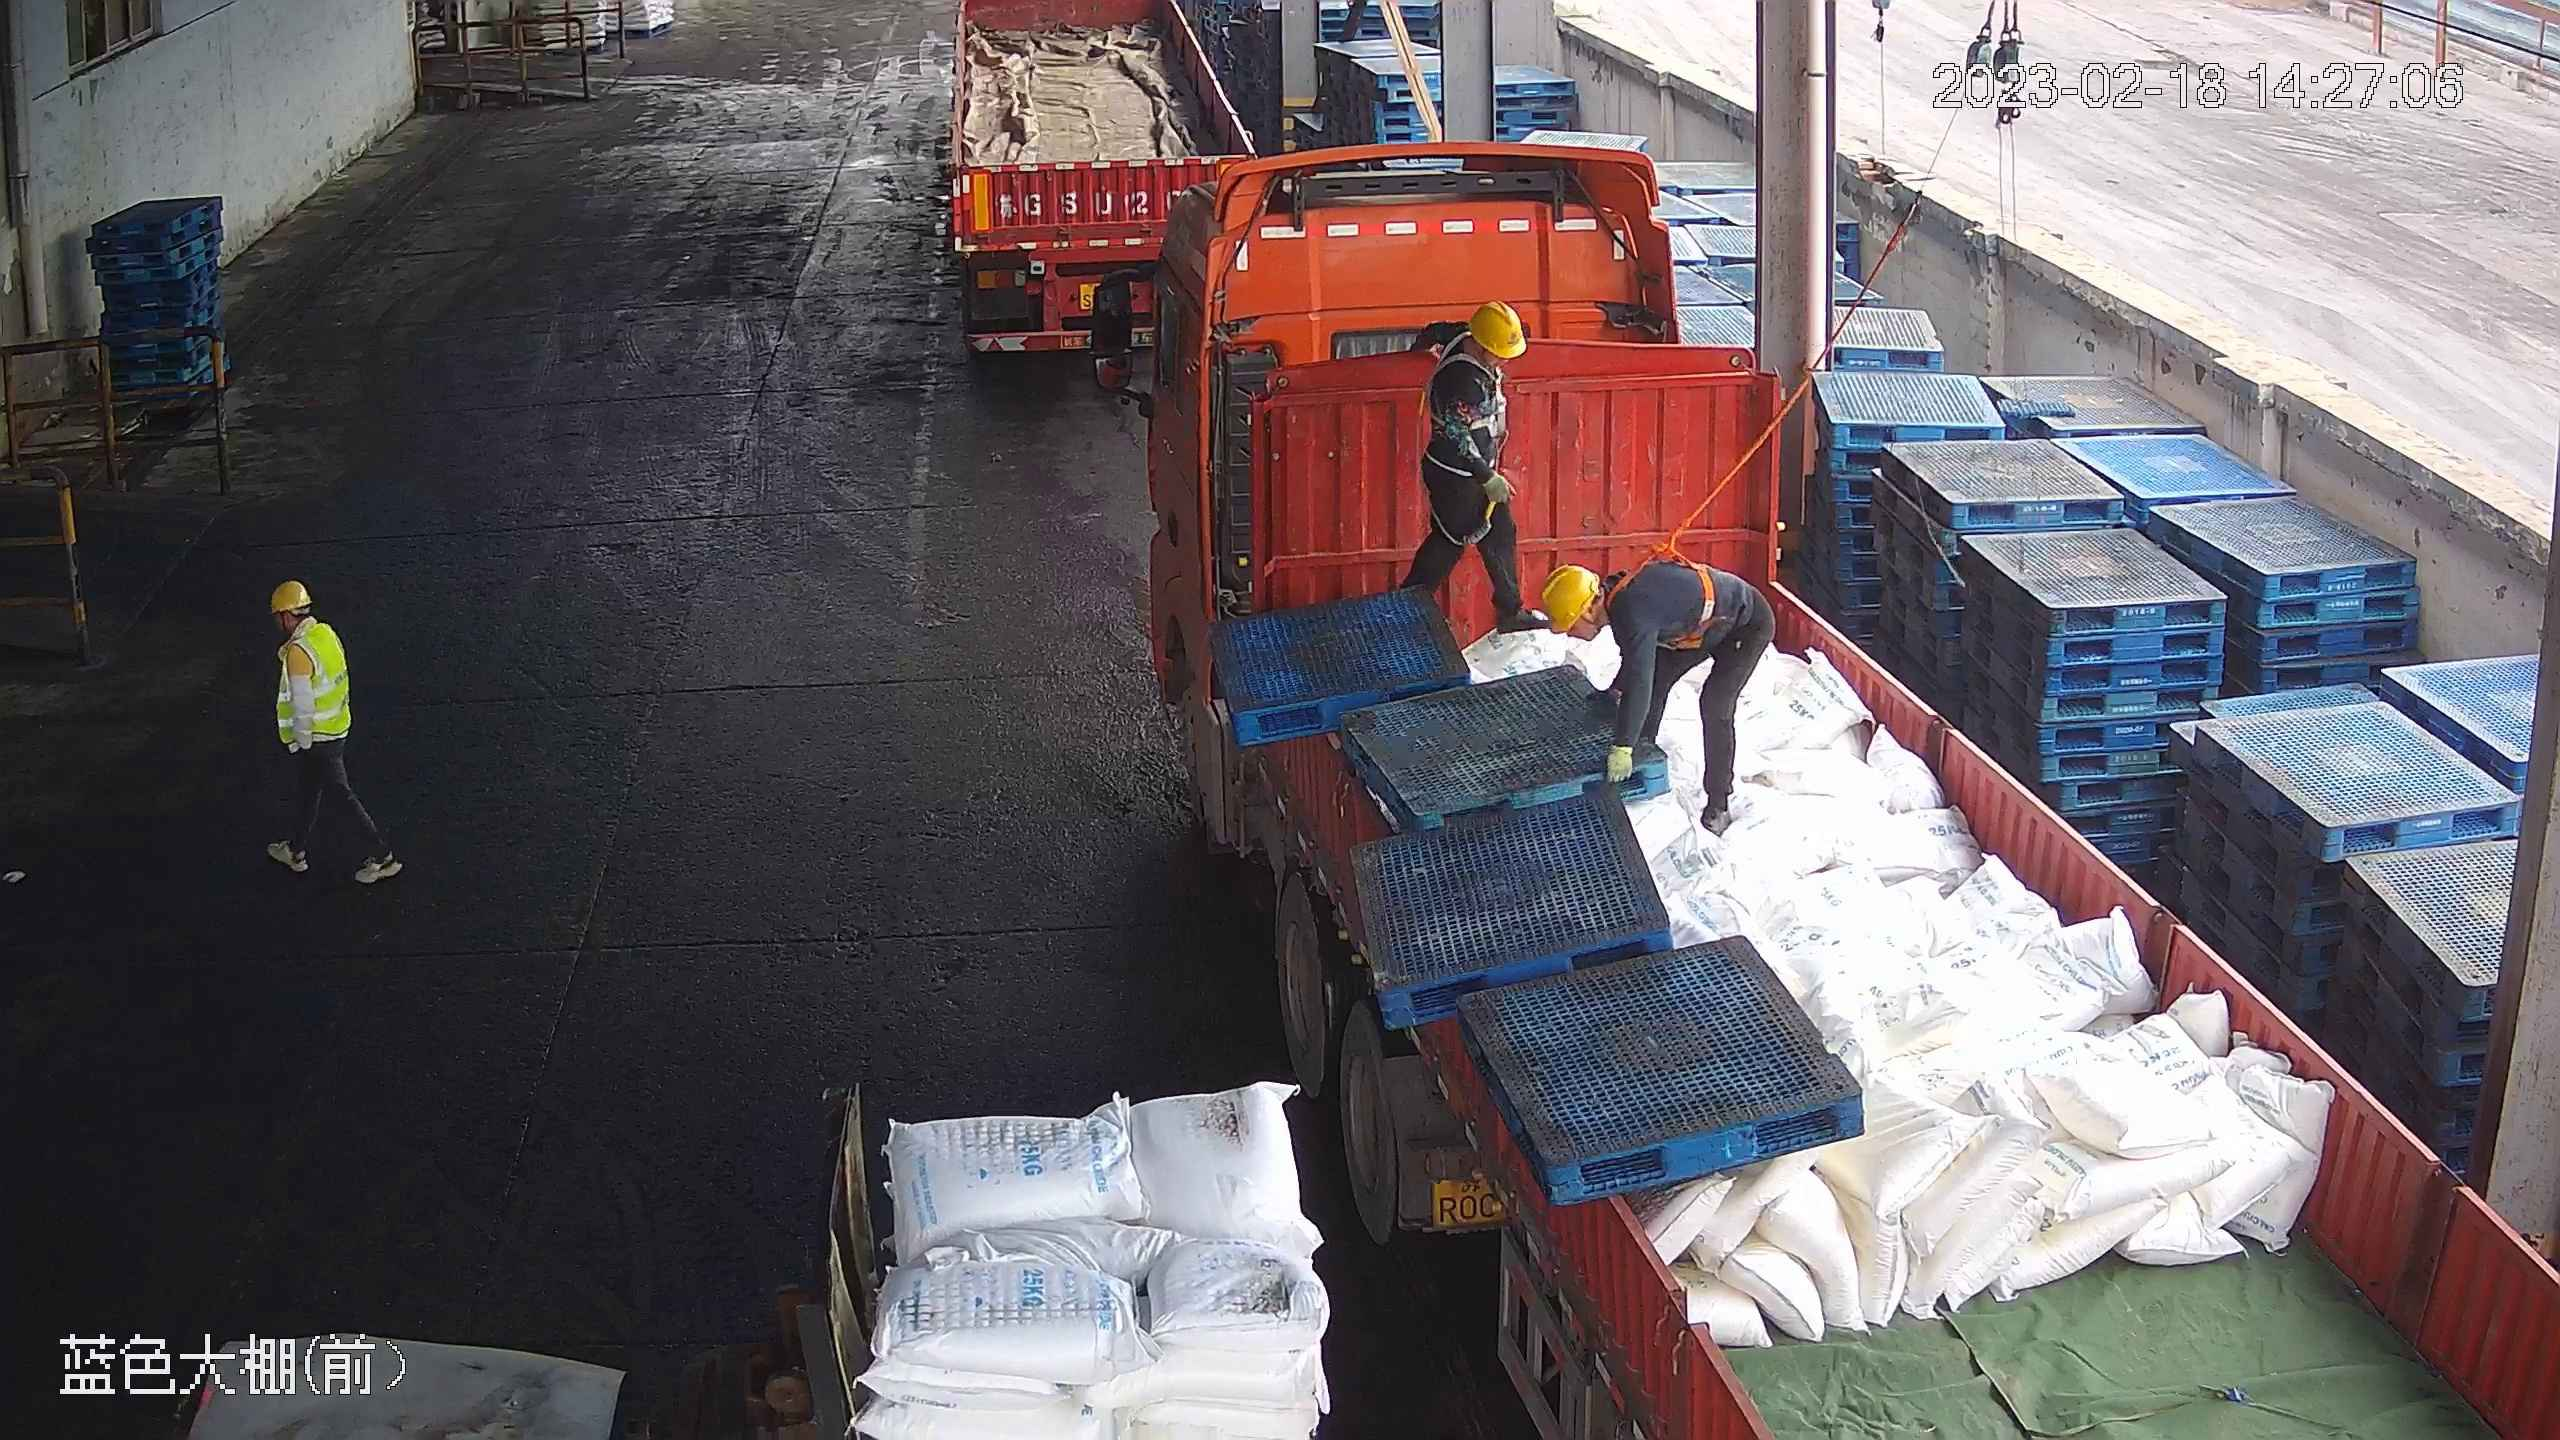belt: (1602, 533, 1717, 644), (1430, 343, 1505, 425)
head: (1541, 553, 1679, 655), (1425, 299, 1527, 402), (263, 577, 343, 667)
helmet: (1540, 561, 1598, 638), (1466, 296, 1530, 358), (268, 576, 312, 612)
people: (1534, 549, 1776, 823), (1399, 285, 1536, 656), (256, 577, 402, 887)
truck: (1123, 136, 2555, 1439), (933, 1, 1267, 370)
